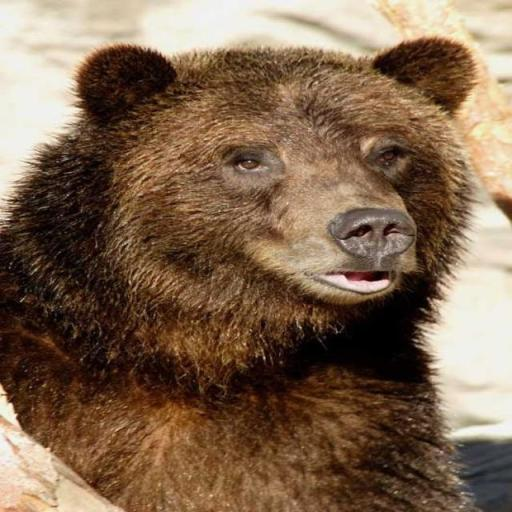Bear: (0, 34, 490, 510)
